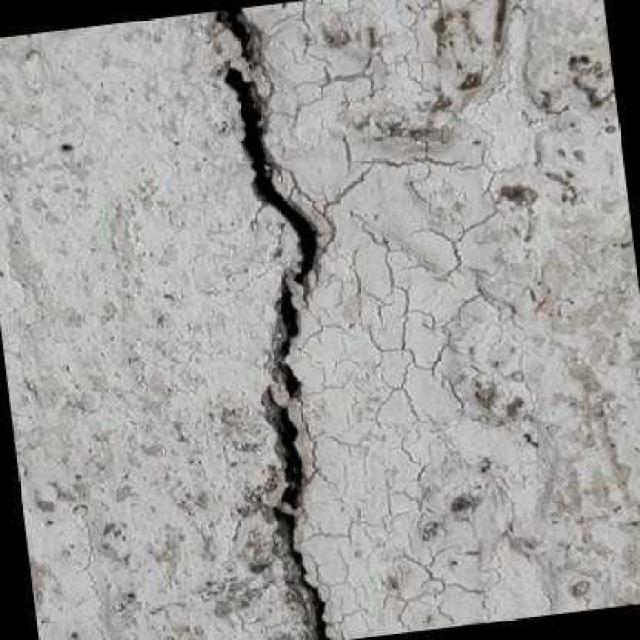D00: (221, 59, 317, 305), (275, 505, 328, 640), (255, 387, 299, 510), (267, 271, 296, 396), (210, 8, 252, 66)
